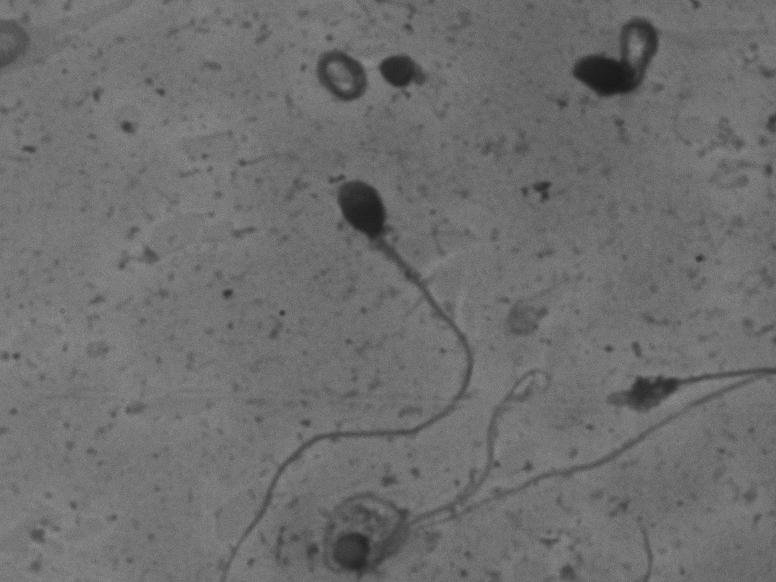Abnormal: (303, 376, 759, 572)
Normal: (195, 162, 494, 573)
